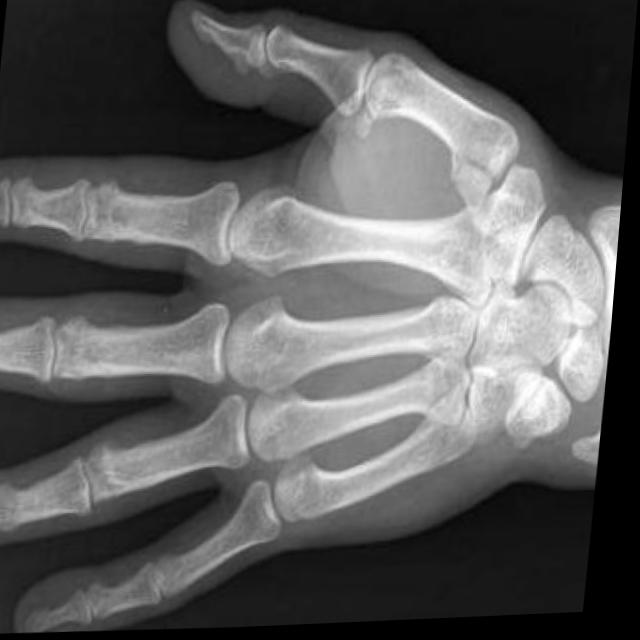fracture: (437, 152, 511, 230)
